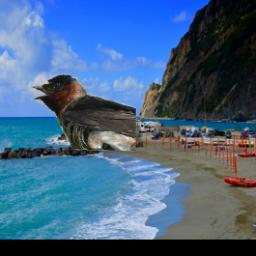Swallow: (30, 73, 136, 151)
